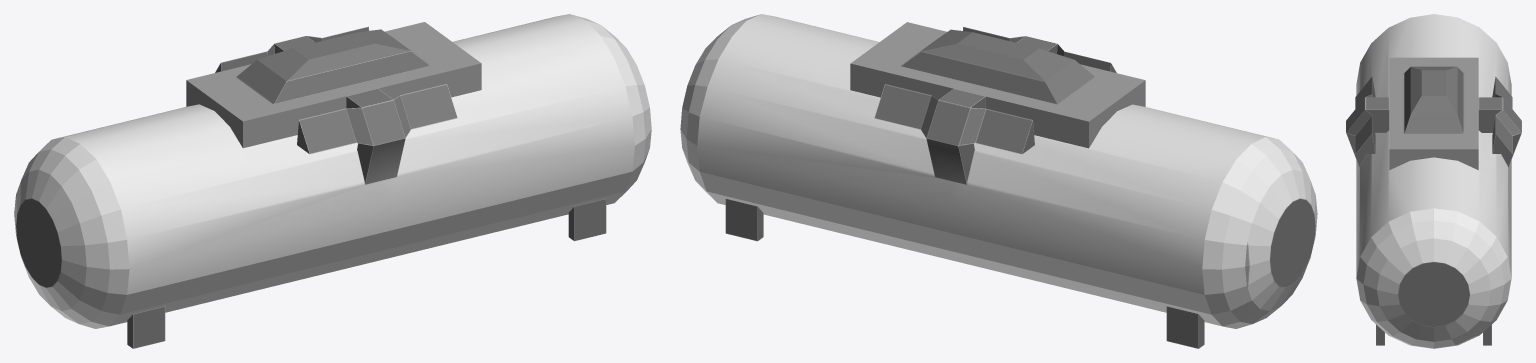
File: OilTank.fbx
3 views of the same model, side by side, from view 1: azimuth 30°, elevation 25°; view 2: azimuth 150°, elevation 25°; view 3: azimuth 270°, elevation 25° (orthographic). The views are drawn at different scales.
Visible parts, largest first — view 1: OilTank; view 2: OilTank; view 3: OilTank.
Part boxes in pixels (x1,y1,x2,y2): OilTank: [14, 14, 651, 348]; OilTank: [680, 14, 1317, 348]; OilTank: [1346, 14, 1521, 348].
Bounding box in the file's own units: 103 × 36.67 × 33.98.
